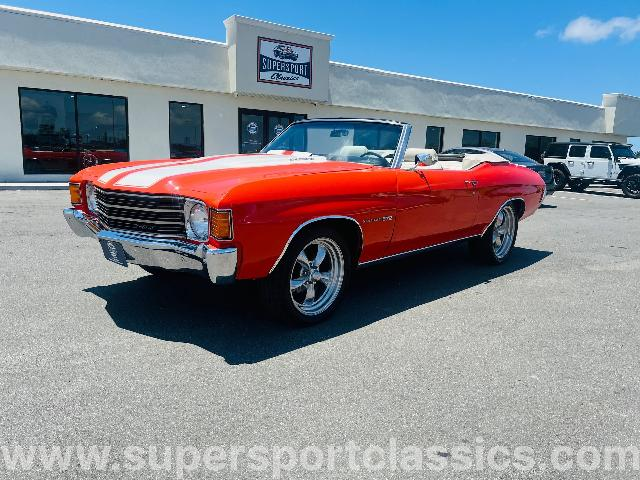chevelle-1972: (64, 118, 546, 325)
